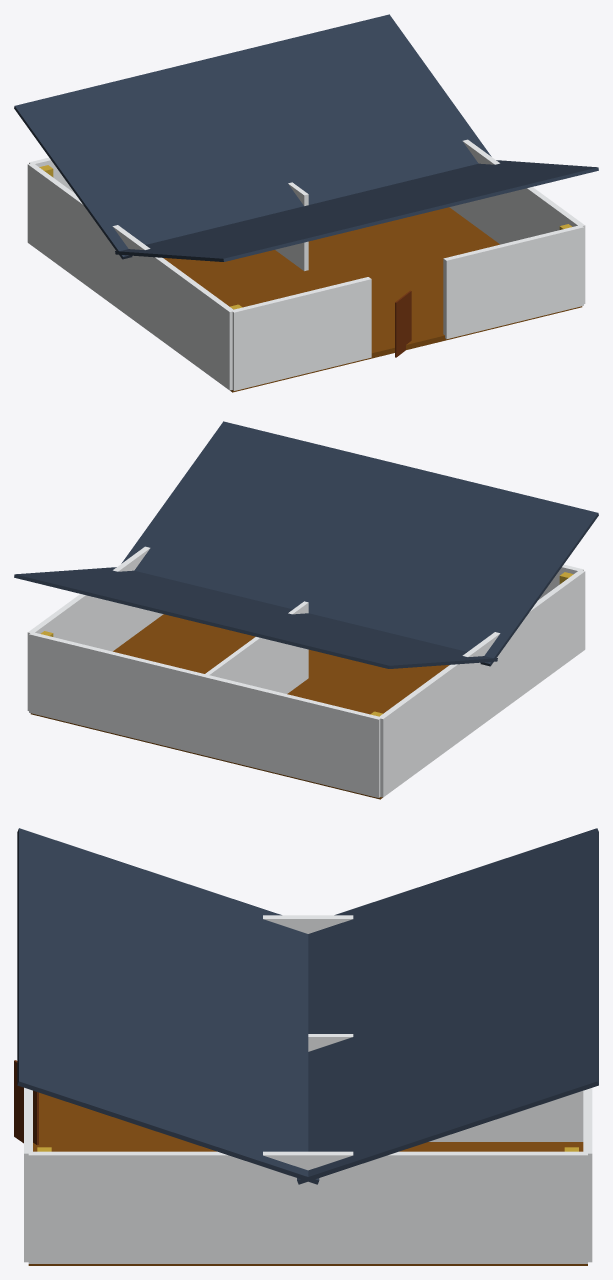
The model's file is southern_farmhouse.glb.
The picture shows the model from 3 angles, top to bottom: view 1: azimuth 30°, elevation 25°; view 2: azimuth 150°, elevation 25°; view 3: azimuth 270°, elevation 25°; orthographic projection. The views are drawn at different scales.
Visible parts, largest first — view 1: Roof_L, Floor, Wall_W, Roof_R, Wall_S_R, Wall_S_L, Wall_E, Door_D1, Wall_Partition; view 2: Roof_R, Wall_N, Wall_W, Roof_L, Floor, Wall_E, Wall_Partition; view 3: Roof_R, Roof_L, Wall_E, Floor, Wall_Partition, Wall_N, Wall_S_R, Wall_W, Door_D1.
Part boxes in pixels (x1,y1,x2,y2): Roof_L: (14,14,491,259); Floor: (163,207,582,392); Wall_W: (27,163,234,390); Roof_R: (115,160,598,261); Wall_S_R: (443,225,583,339); Wall_S_L: (231,277,371,390); Wall_E: (449,139,585,303); Door_D1: (395,290,411,357); Wall_Partition: (275,182,308,271); Roof_R: (121,421,598,666); Wall_N: (29,632,381,797); Wall_W: (378,570,585,797); Roof_L: (14,567,497,668); Floor: (30,614,449,799); Wall_E: (27,546,163,710); Wall_Partition: (205,601,308,693); Roof_R: (17,828,319,1184); Roof_L: (297,828,598,1184); Wall_E: (28,1151,587,1263); Floor: (28,1092,587,1265); Wall_Partition: (308,1034,583,1141); Wall_N: (583,1088,592,1262); Wall_S_R: (24,1087,32,1262); Wall_W: (263,915,353,933); Door_D1: (14,1060,38,1144).
Bounding box in the file's own units: 15 × 5.33 × 14.64.
